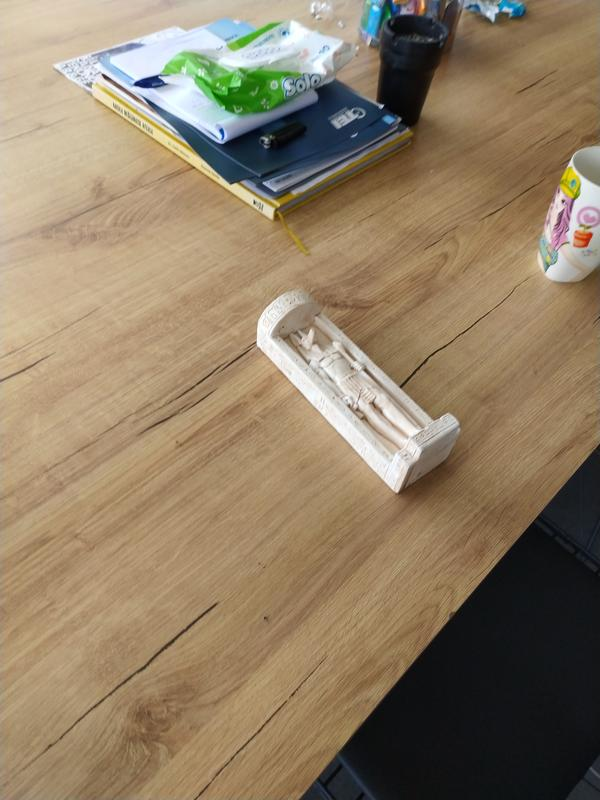heykel: (246, 284, 468, 505)
